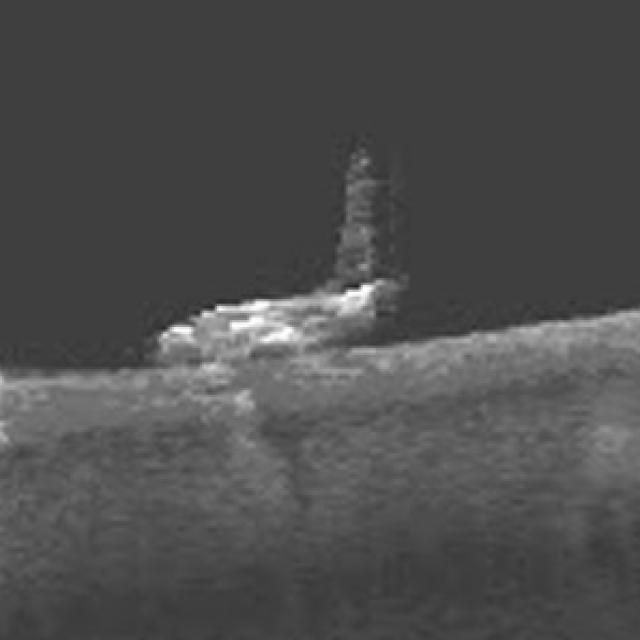plane: (118, 117, 451, 444)
